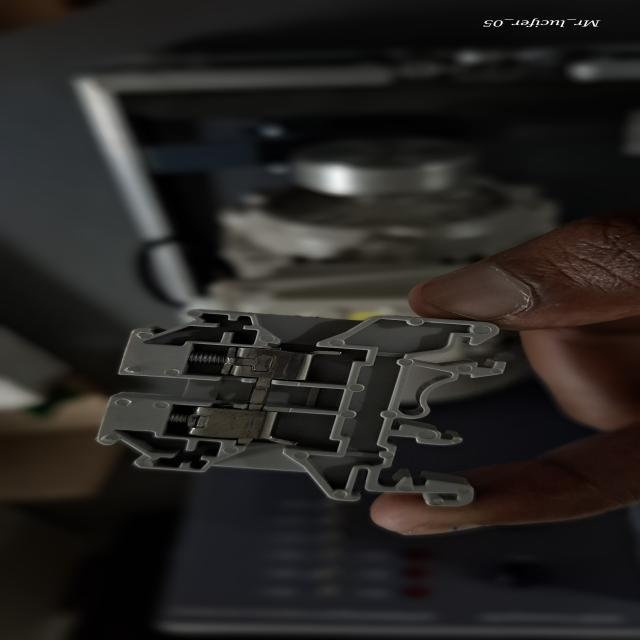Pass: (58, 284, 514, 534)
